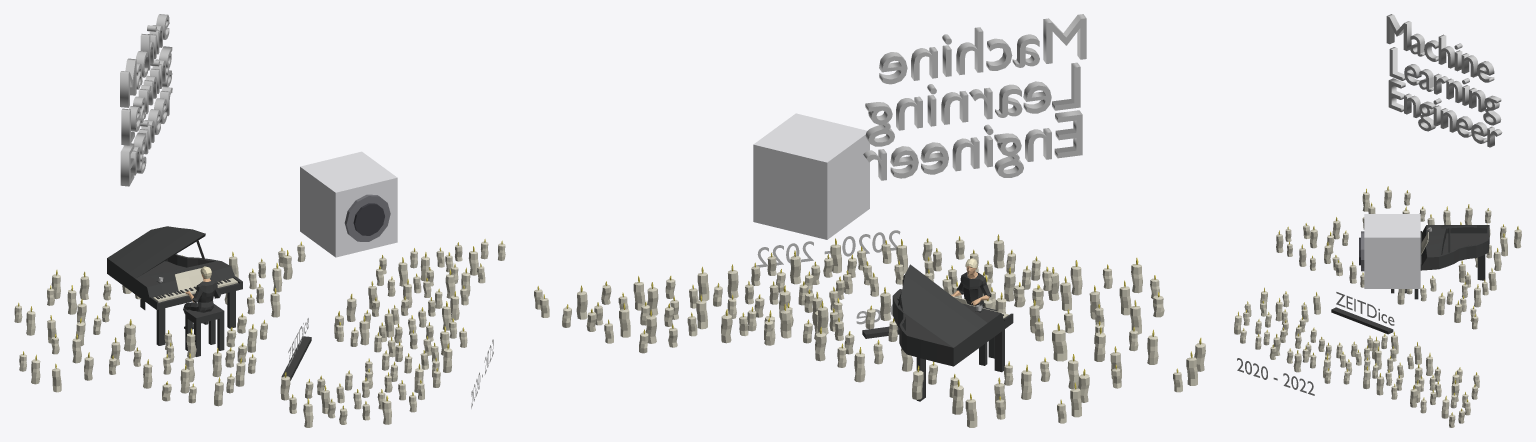
Rendered from candle.glb.
3 renders of one model, left to right at view 1: azimuth 30°, elevation 25°; view 2: azimuth 150°, elevation 25°; view 3: azimuth 270°, elevation 25°, orthographic. The views are drawn at different scales.
Visible parts, largest first — view 1: Cube.003, ZD_Cube, Text, Cube.001, male, ZD_LensRing, ZD_Lens, Cube; view 2: Text, ZD_Cube, Cube.003, male, Text.003; view 3: Text, ZD_Cube, Cube.003, Cube, Text.003, Text.002.
Boxes of the visible parts, left/top/right/bottom form: Cube.003: left=107, top=226, right=242, bottom=345; ZD_Cube: left=300, top=151, right=397, bottom=257; Text: left=120, top=14, right=172, bottom=186; Cube.001: left=185, top=304, right=224, bottom=356; male: left=183, top=266, right=220, bottom=329; ZD_LensRing: left=344, top=194, right=390, bottom=241; ZD_Lens: left=353, top=203, right=384, bottom=235; Cube: left=281, top=336, right=311, bottom=380; Text: left=863, top=14, right=1086, bottom=180; ZD_Cube: left=753, top=113, right=869, bottom=239; Cube.003: left=892, top=264, right=1013, bottom=401; male: left=951, top=258, right=991, bottom=307; Text.003: left=756, top=230, right=900, bottom=267; Text: left=1386, top=14, right=1502, bottom=147; ZD_Cube: left=1364, top=214, right=1420, bottom=288; Cube.003: left=1414, top=225, right=1489, bottom=299; Cube: left=1331, top=307, right=1393, bottom=334; Text.003: left=1237, top=358, right=1314, bottom=395; Text.002: left=1336, top=292, right=1394, bottom=325.
Bounding box in the file's own units: 7.47 × 4.54 × 4.58.
